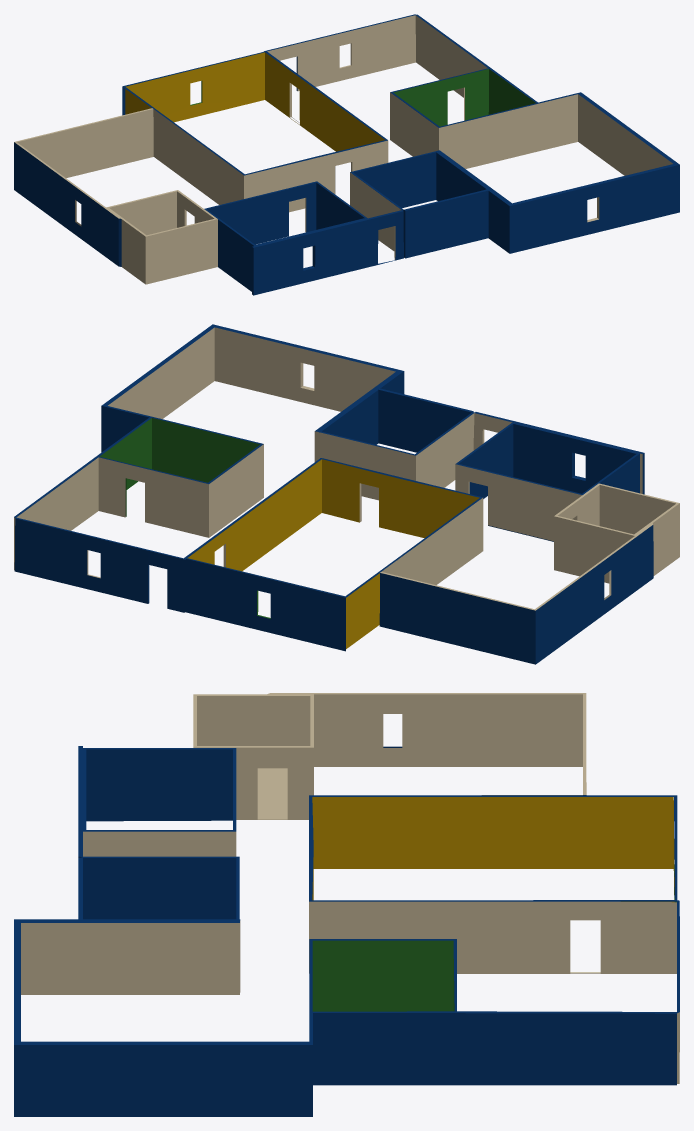
File: DENAH RUMAH revissi.fbx
The picture shows the model from 3 angles, top to bottom: view 1: azimuth 30°, elevation 25°; view 2: azimuth 150°, elevation 25°; view 3: azimuth 270°, elevation 25°; orthographic projection. The views are drawn at different scales.
Visible parts, largest first — view 1: lantai KAMAR MANDI; view 2: lantai KAMAR MANDI; view 3: lantai KAMAR MANDI.
Boxes of the visible parts, x1=… form: lantai KAMAR MANDI: x1=14, y1=14, x2=679, y2=295; lantai KAMAR MANDI: x1=14, y1=324, x2=679, y2=664; lantai KAMAR MANDI: x1=14, y1=693, x2=679, y2=1116.
Bounding box in the file's own units: 3519 × 339 × 2820.
